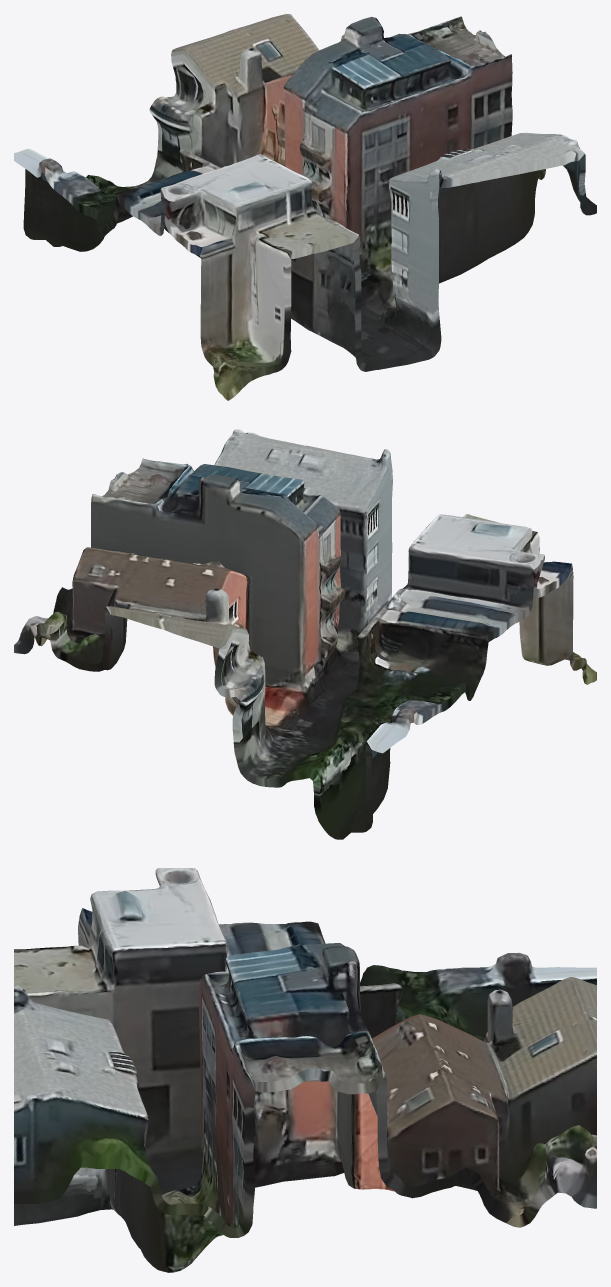
Rendered from z20-167757-405198-h0-yup-uvflip-v3-world.glb.
The picture shows the model from 3 angles, top to bottom: view 1: azimuth 30°, elevation 25°; view 2: azimuth 150°, elevation 25°; view 3: azimuth 270°, elevation 25°; orthographic projection. The views are drawn at different scales.
Size of the model in its own units: 30.16 by 18.84 by 30.32.
Materials: 1 (1 with a texture image).
